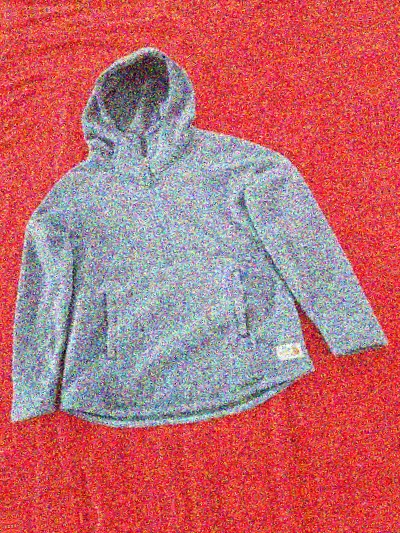Hoodie: (0, 11, 398, 433), (376, 0, 400, 382)
